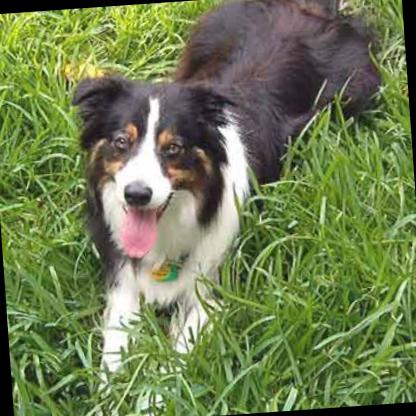Border_collie: (54, 0, 407, 416)
